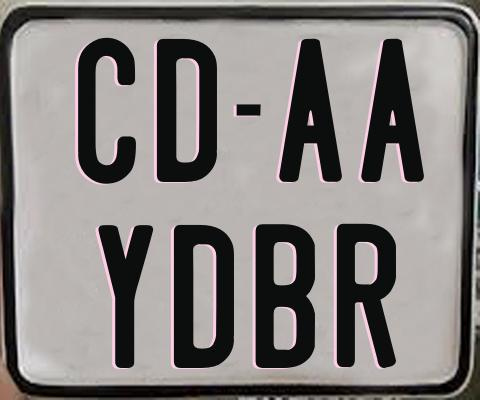A: (360, 39, 427, 187), (279, 36, 344, 180)
B: (256, 222, 318, 368)
C: (75, 38, 136, 189)
D: (154, 36, 219, 183), (173, 224, 237, 371)
R: (334, 222, 393, 371)
Y: (97, 225, 155, 374)
